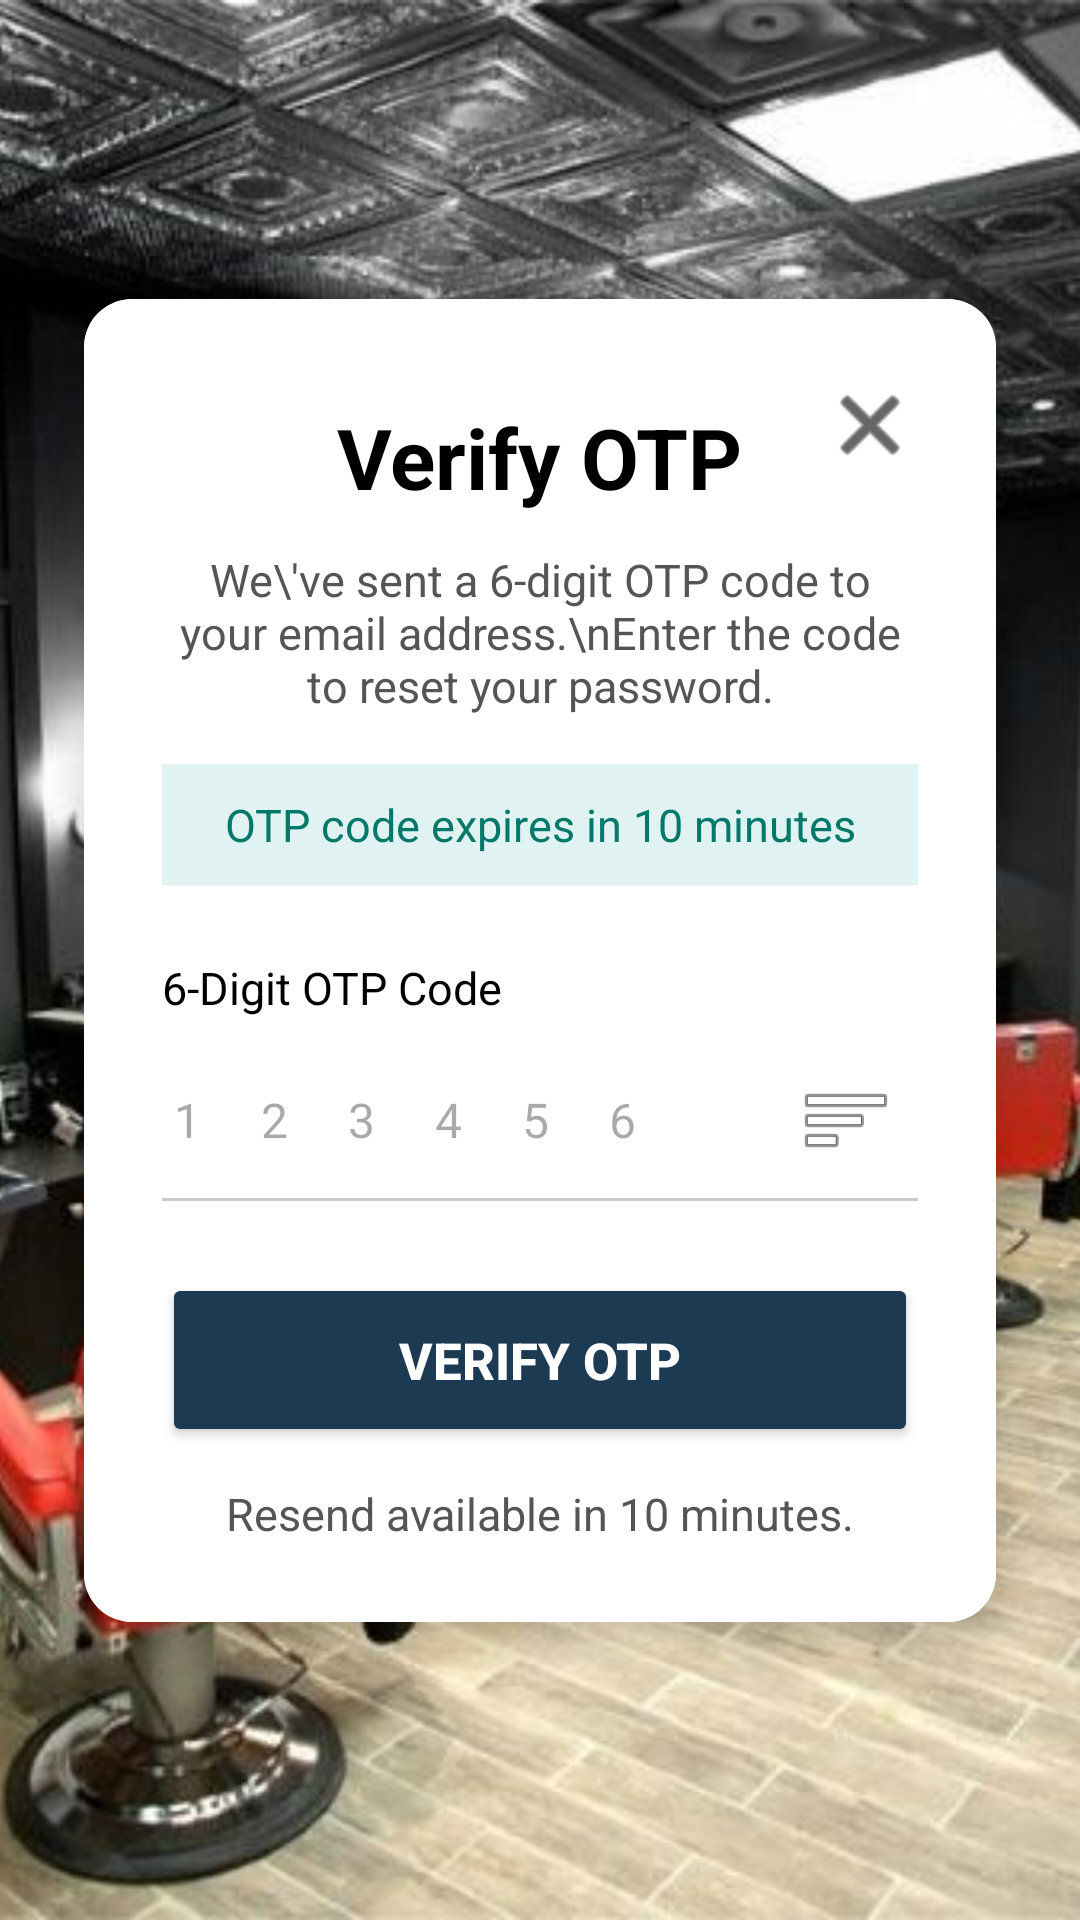

Named icons in this screenshot (1080x1920) and their bounding boxes, (x1, y1, x2, y2):
Close: (840, 395, 900, 455)
